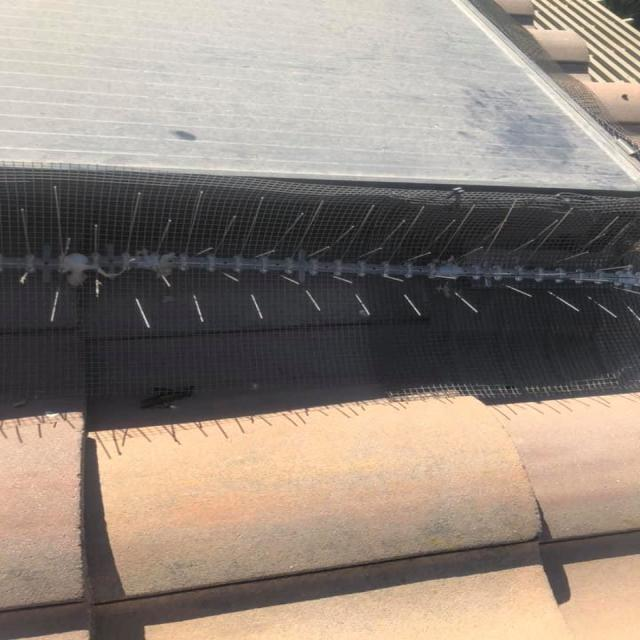dust-solar-panel: (0, 0, 640, 196)
